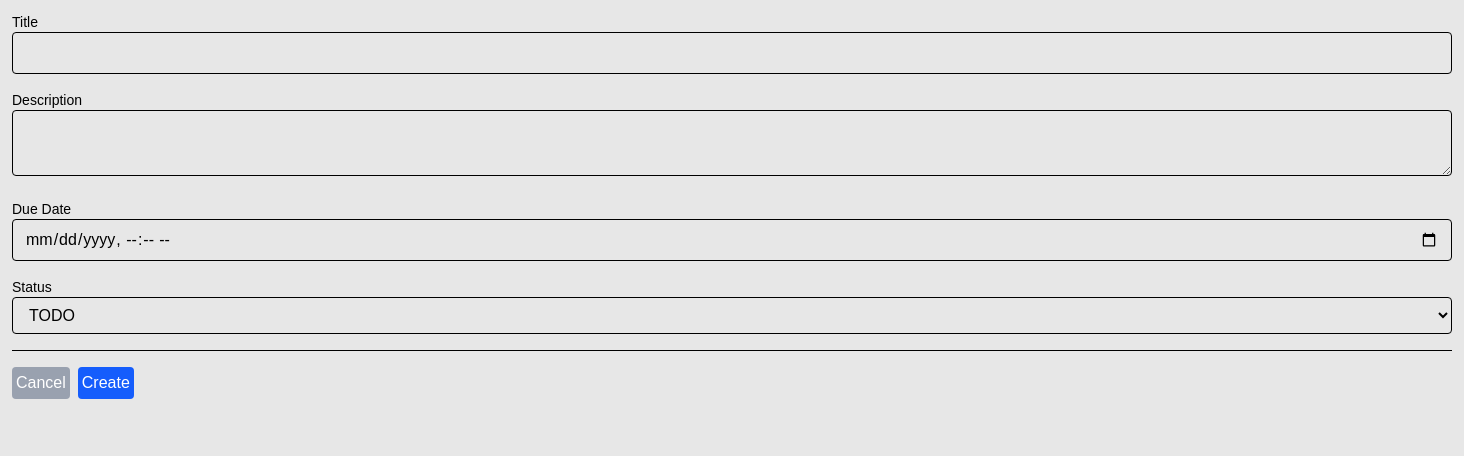
Test case: TaskForm Component › shows validation errors for empty and invalid fields
Click the button "Create".
click(106, 383)  # box [78,367,134,399]
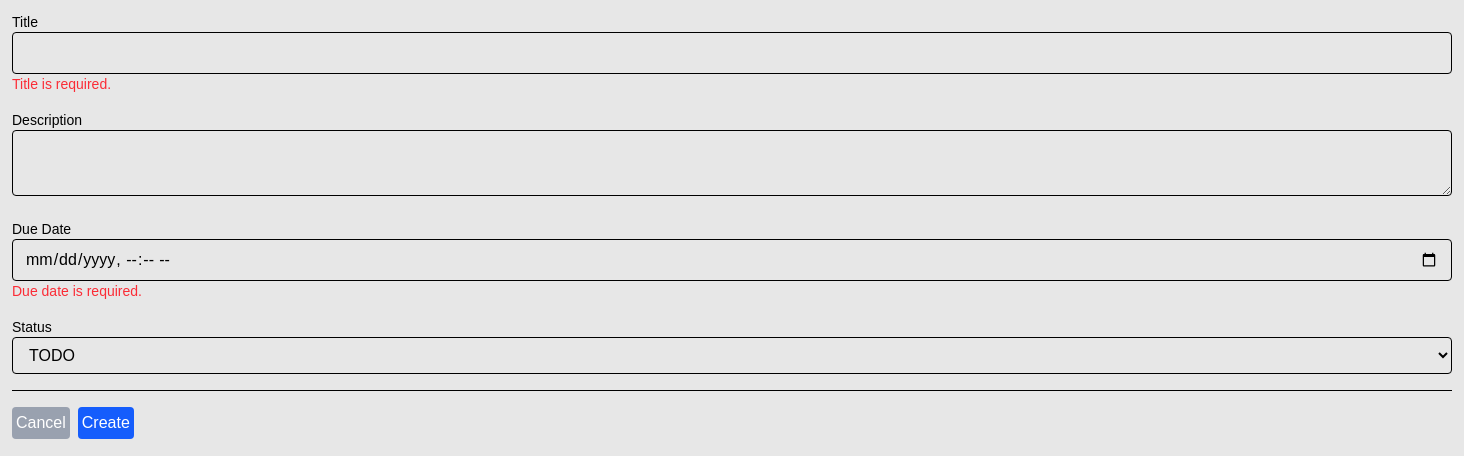
Expected: the text "Title is required." is shown, [12,76,111,92]
Expected: the text "Due date is required." is shown, [12,283,142,299]
